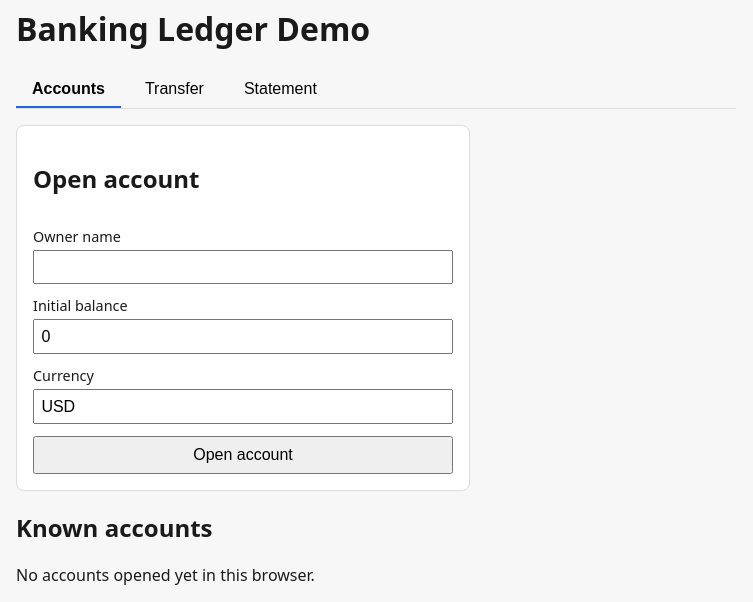
Test: App › switches to the Transfer tab on click
Step 1. Click the button "Transfer" → click(174, 90), box [129, 72, 220, 108]
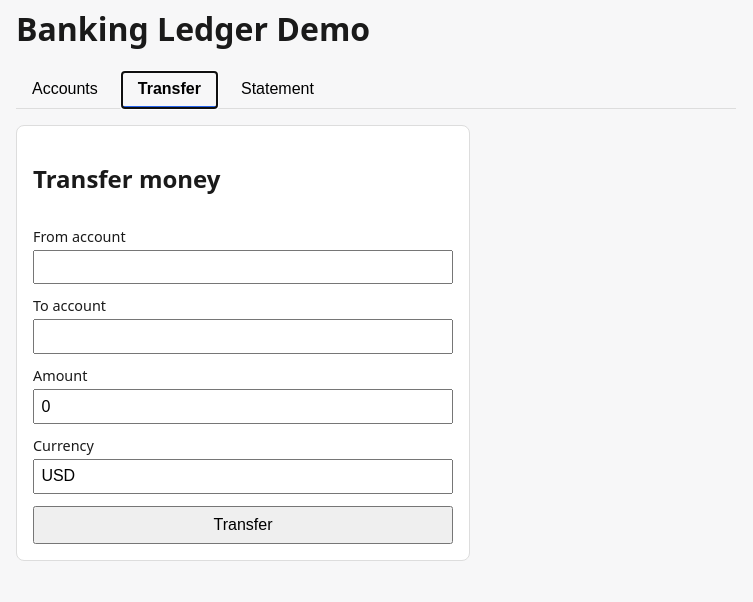
Check: the heading "Transfer money" is shown, box [33, 162, 220, 195]
